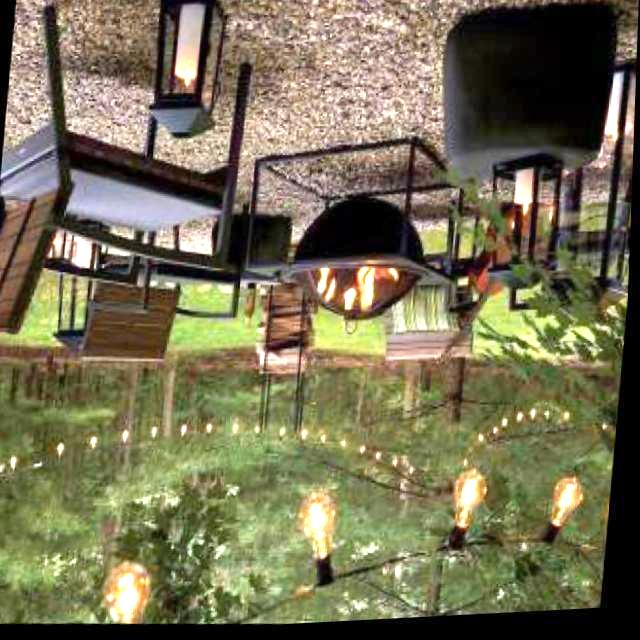fire: (306, 256, 402, 328)
